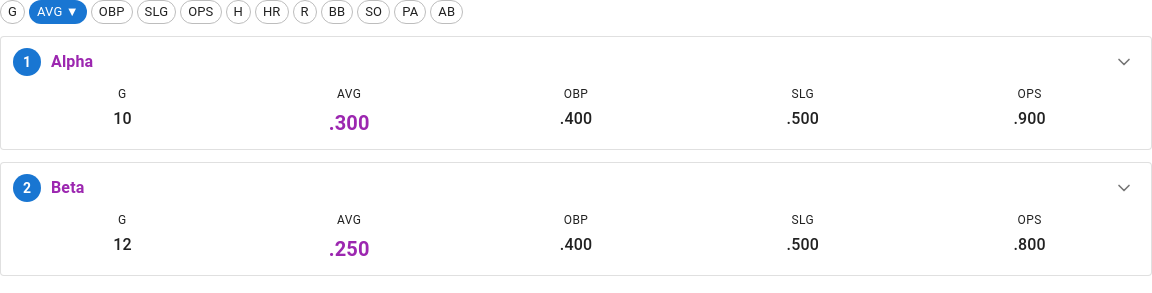
it: StatsCards › uses the chip label for the swapped slot (SO for strikeouts)
Click the button "SO".
click(374, 12)  # box [357, 0, 390, 24]
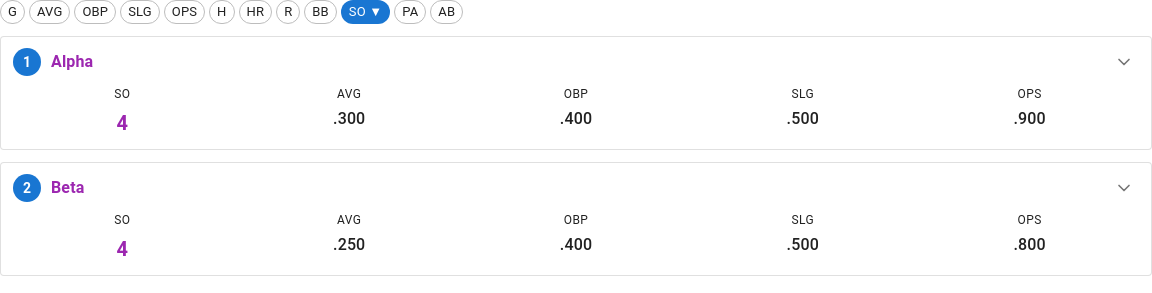
Expected: the text "SO" below "Alpha" is shown, [114, 87, 130, 101]
